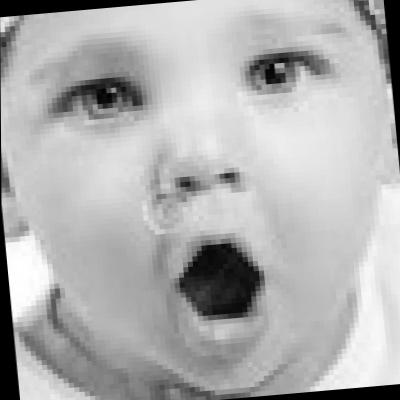surprise: (13, 0, 400, 397)
